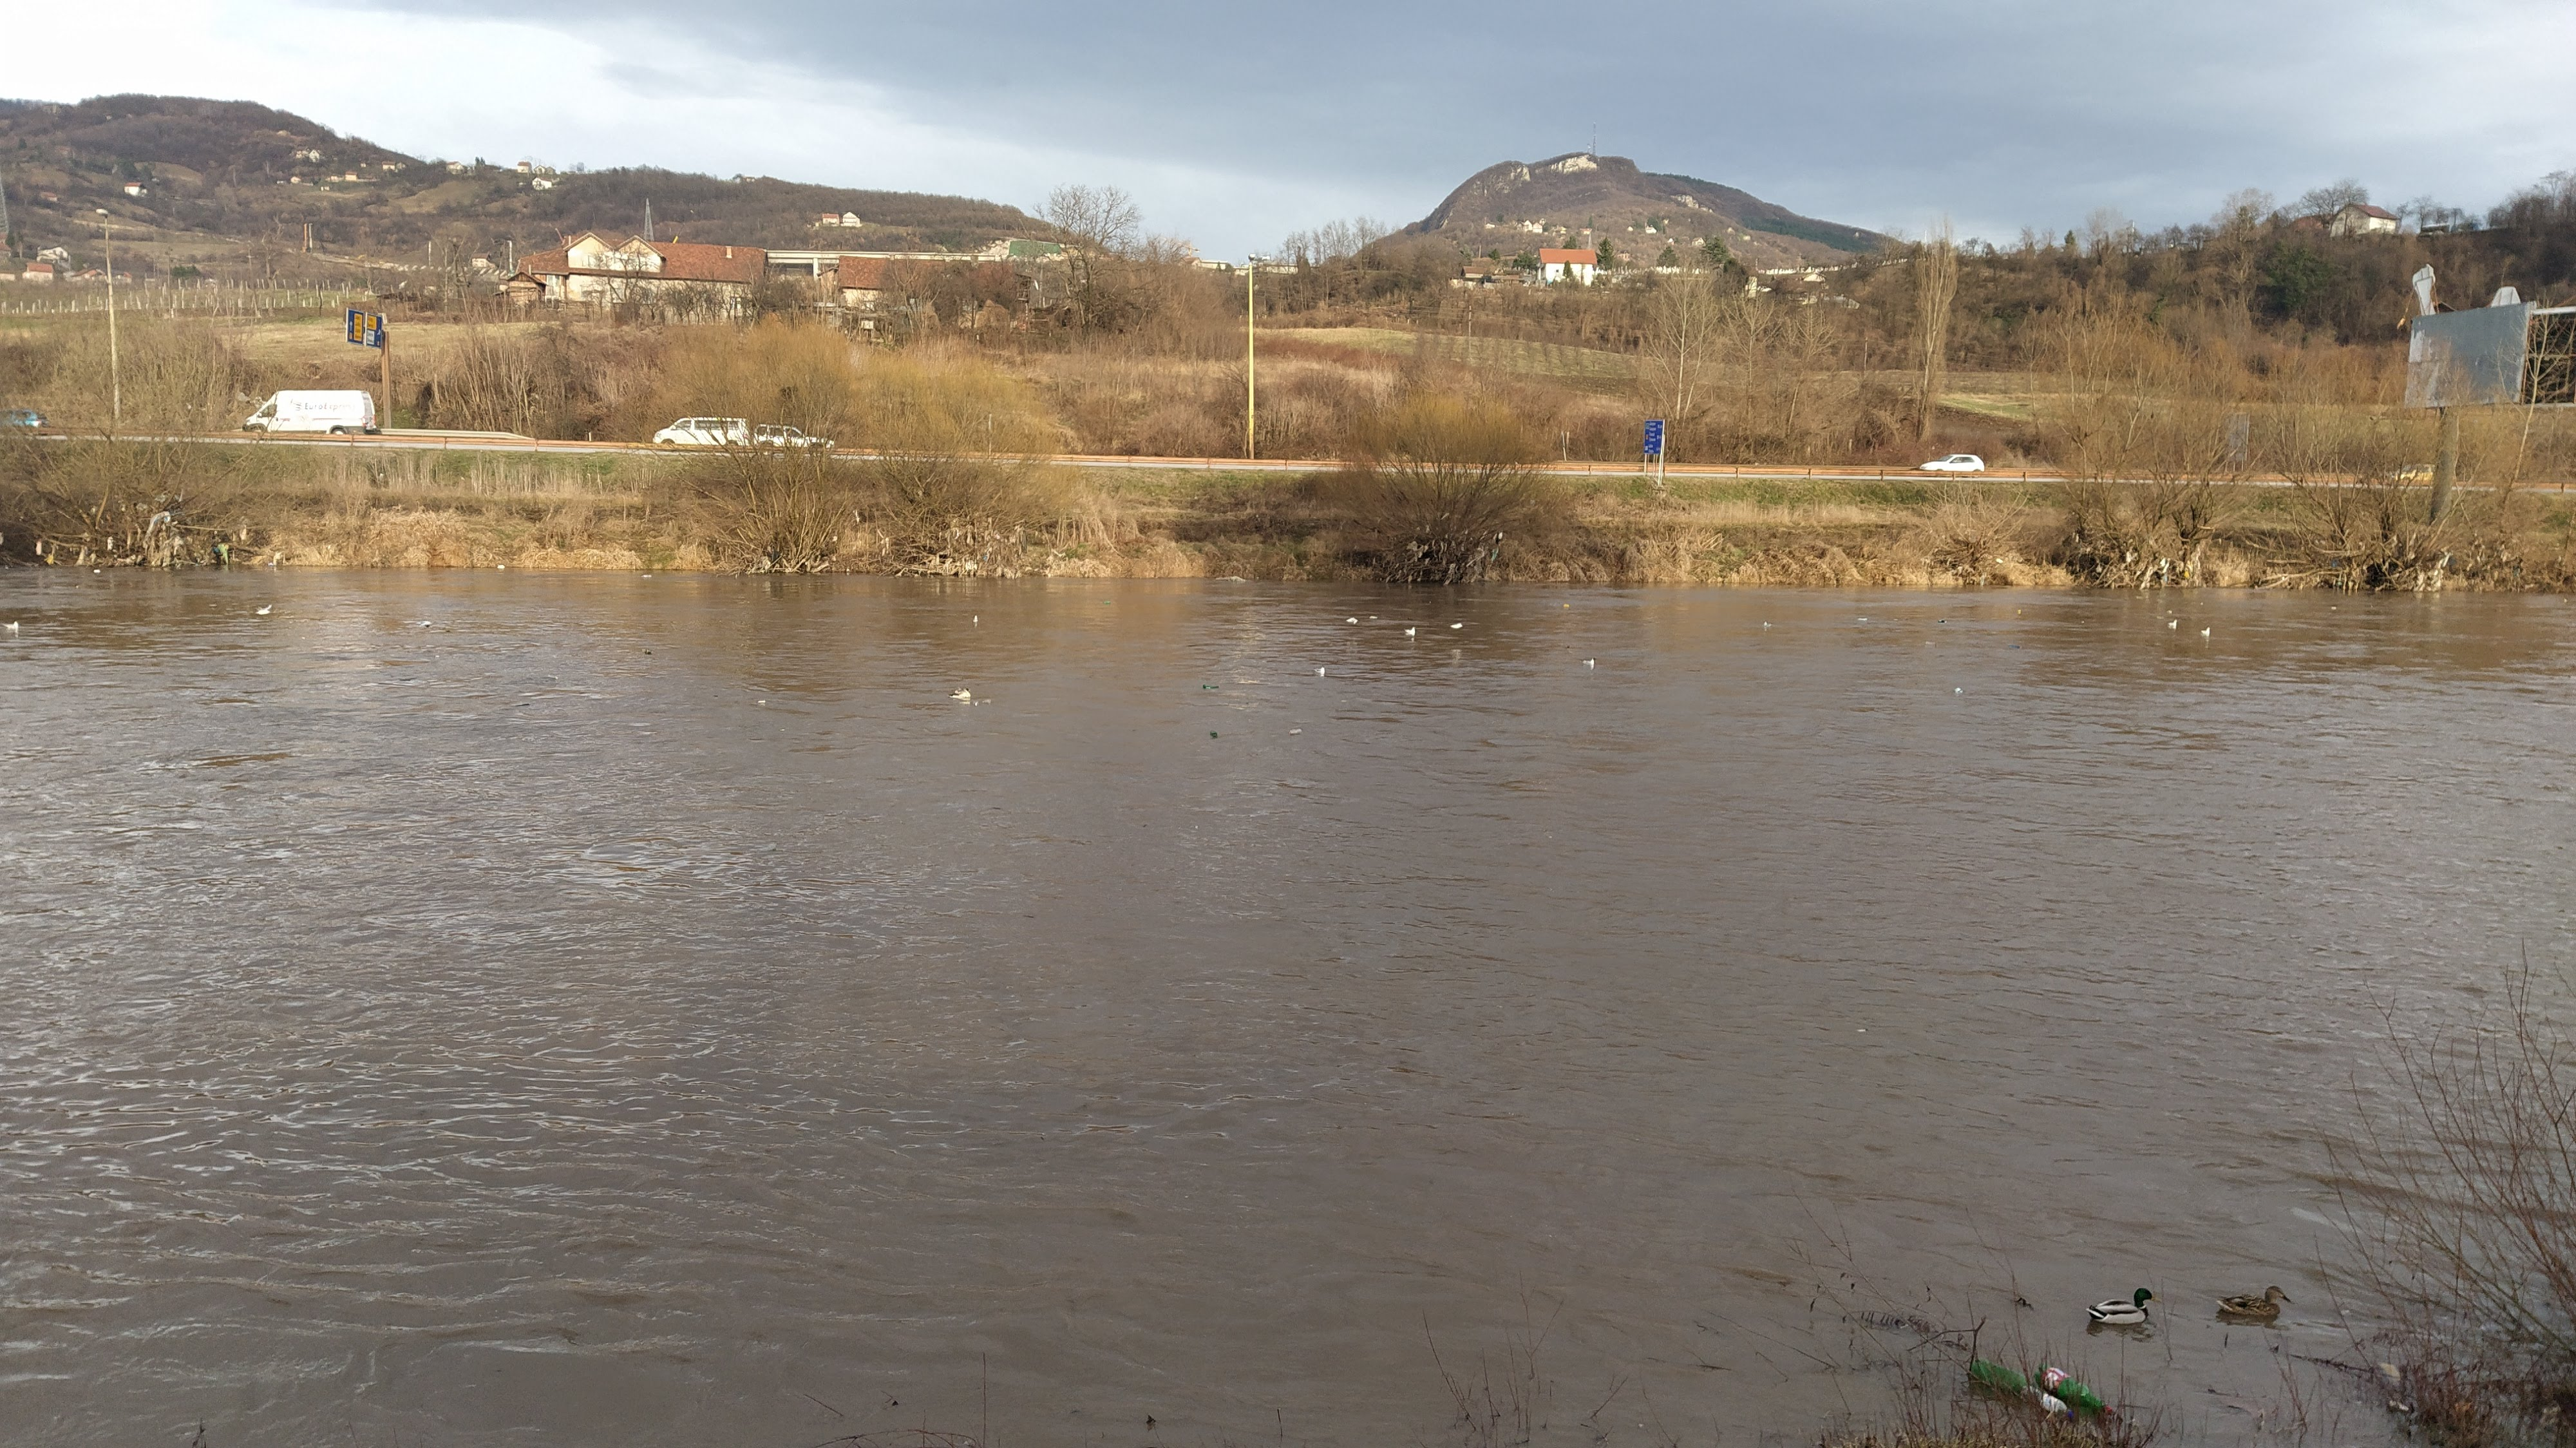Plastic Bottle: (2035, 1363, 2111, 1413), (1973, 1358, 2028, 1393), (2022, 1386, 2072, 1416), (1288, 728, 1300, 733), (1210, 729, 1217, 736), (642, 648, 651, 653), (2010, 644, 2020, 648), (642, 574, 651, 577), (1925, 641, 1934, 644), (757, 699, 764, 703), (1205, 685, 1212, 689), (1104, 600, 1109, 604), (1937, 620, 1943, 623), (1858, 618, 1867, 620)
